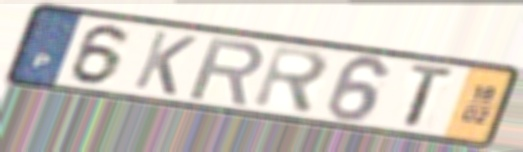6: (323, 54, 392, 124), (68, 22, 134, 87)
K: (129, 28, 201, 98)
R: (249, 42, 332, 118), (184, 35, 267, 108)
T: (403, 61, 460, 130)
